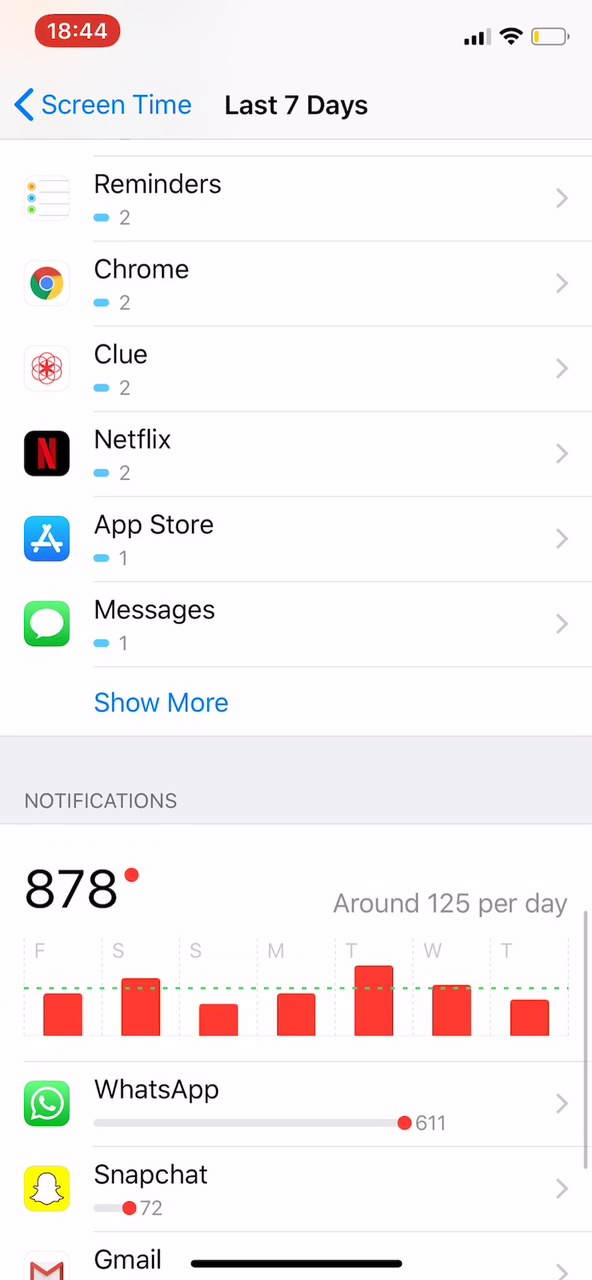not_app: (20, 1061, 492, 1147), (18, 1149, 243, 1232)
not_over: (7, 746, 188, 914)
pick_app: (9, 153, 245, 240), (9, 240, 225, 325), (15, 501, 243, 577), (15, 585, 229, 663), (14, 411, 196, 497), (14, 324, 180, 413)
week: (213, 87, 376, 120)
